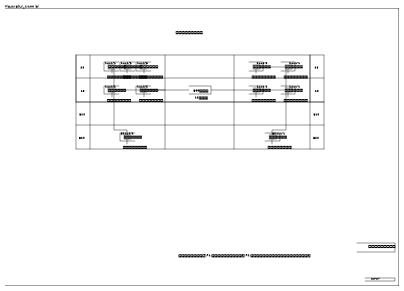door: (288, 203, 289, 207)
room: (73, 151, 327, 234), (274, 158, 288, 203), (112, 158, 125, 203), (361, 36, 399, 45), (189, 200, 211, 209), (118, 151, 133, 160), (102, 200, 117, 209), (283, 200, 298, 209), (250, 200, 265, 209), (102, 225, 117, 234), (283, 225, 298, 234), (250, 225, 265, 234), (118, 225, 133, 234), (267, 151, 281, 160), (135, 200, 149, 209), (135, 225, 149, 234), (270, 154, 278, 158), (138, 203, 146, 207), (138, 227, 146, 231), (122, 154, 129, 158), (106, 203, 113, 207), (287, 203, 294, 207), (254, 203, 261, 207), (106, 227, 113, 231), (287, 227, 294, 231), (254, 227, 261, 231), (122, 227, 129, 231)
wall: (368, 5, 399, 9)
